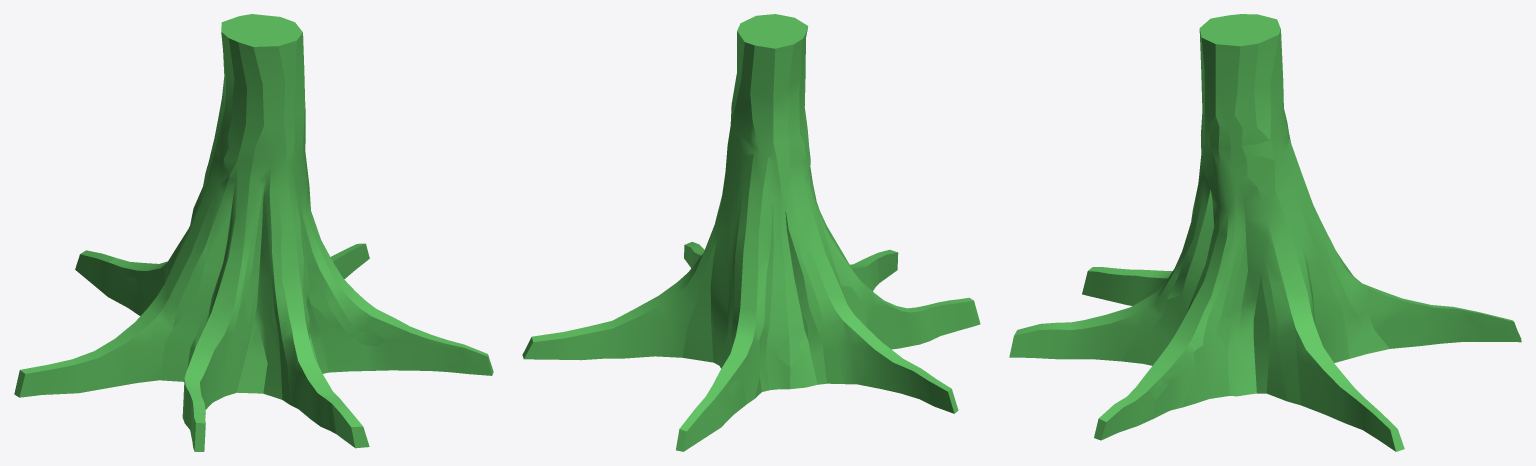
File: jungle_big_tree_E_cut.fbx
The picture shows the model from 3 angles, left to right: view 1: azimuth 30°, elevation 25°; view 2: azimuth 150°, elevation 25°; view 3: azimuth 270°, elevation 25°; orthographic projection. The views are drawn at different scales.
Parts seen in each view (by area): view 1: jungle_big_tree_E_cut; view 2: jungle_big_tree_E_cut; view 3: jungle_big_tree_E_cut.
Boxes of the visible parts, left/top/right/bottom form: jungle_big_tree_E_cut: left=14, top=14, right=493, bottom=451; jungle_big_tree_E_cut: left=522, top=14, right=980, bottom=451; jungle_big_tree_E_cut: left=1009, top=14, right=1521, bottom=451.
Bounding box in the file's own units: 326 × 254 × 356.
